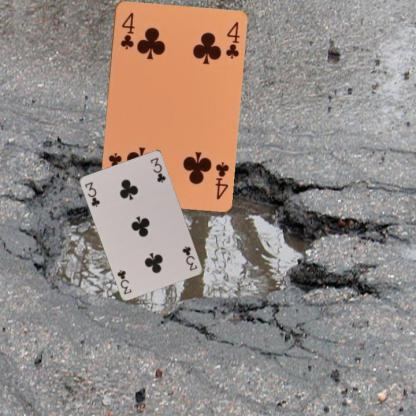3c: (82, 179, 102, 208), (180, 243, 198, 272)
4c: (212, 159, 230, 200), (118, 9, 135, 50)
